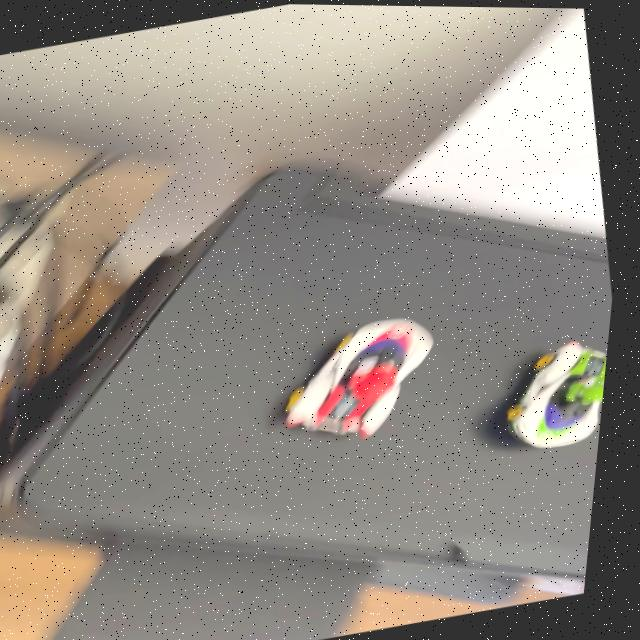mario: (248, 295, 477, 463)
yoshi: (477, 312, 617, 465)
